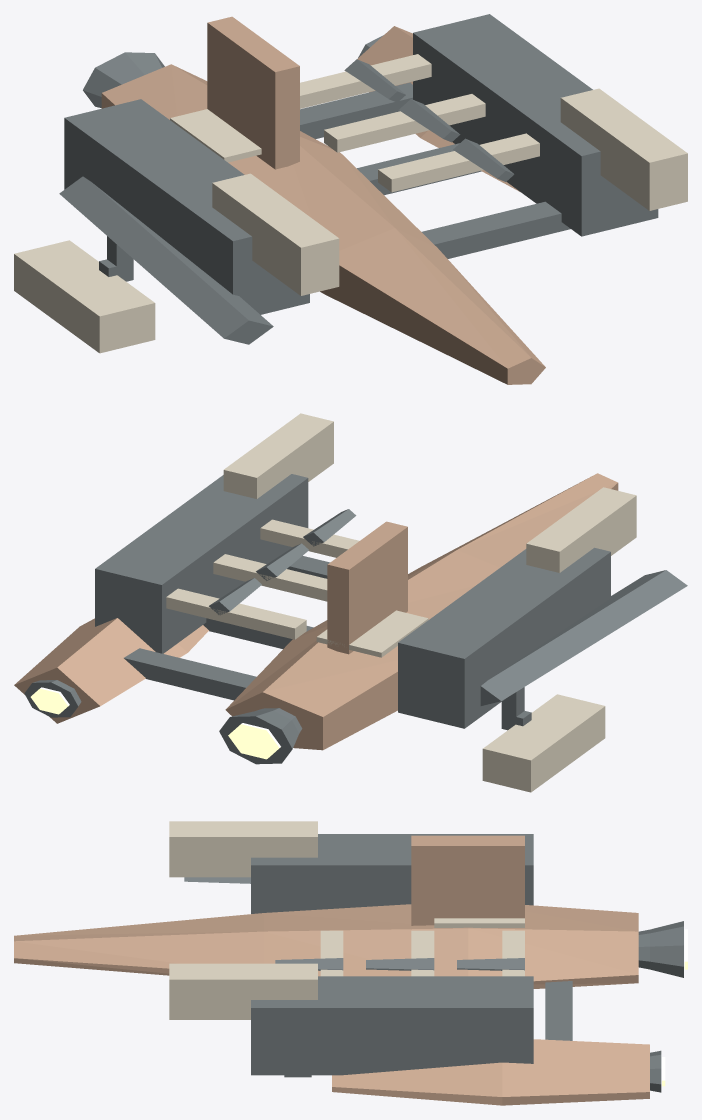
The picture shows the model from 3 angles, top to bottom: view 1: azimuth 30°, elevation 25°; view 2: azimuth 150°, elevation 25°; view 3: azimuth 270°, elevation 25°; orthographic projection. The views are drawn at different scales.
Size of the model in its own units: 13.66 by 5.3 by 18.13.
